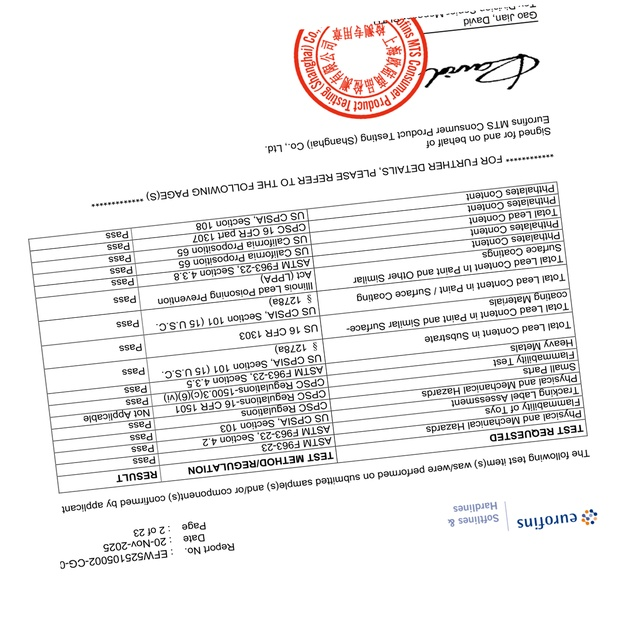eurofins: (515, 505, 602, 532)
